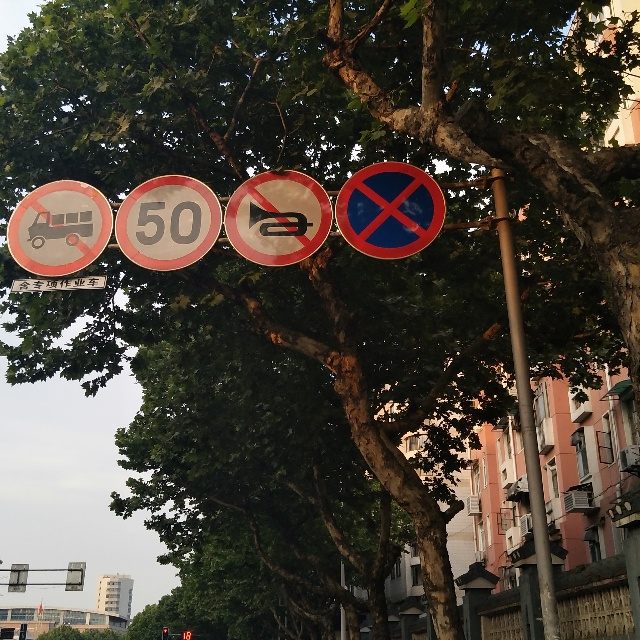nohonk: (240, 179, 320, 259)
stop: (348, 176, 437, 255)
